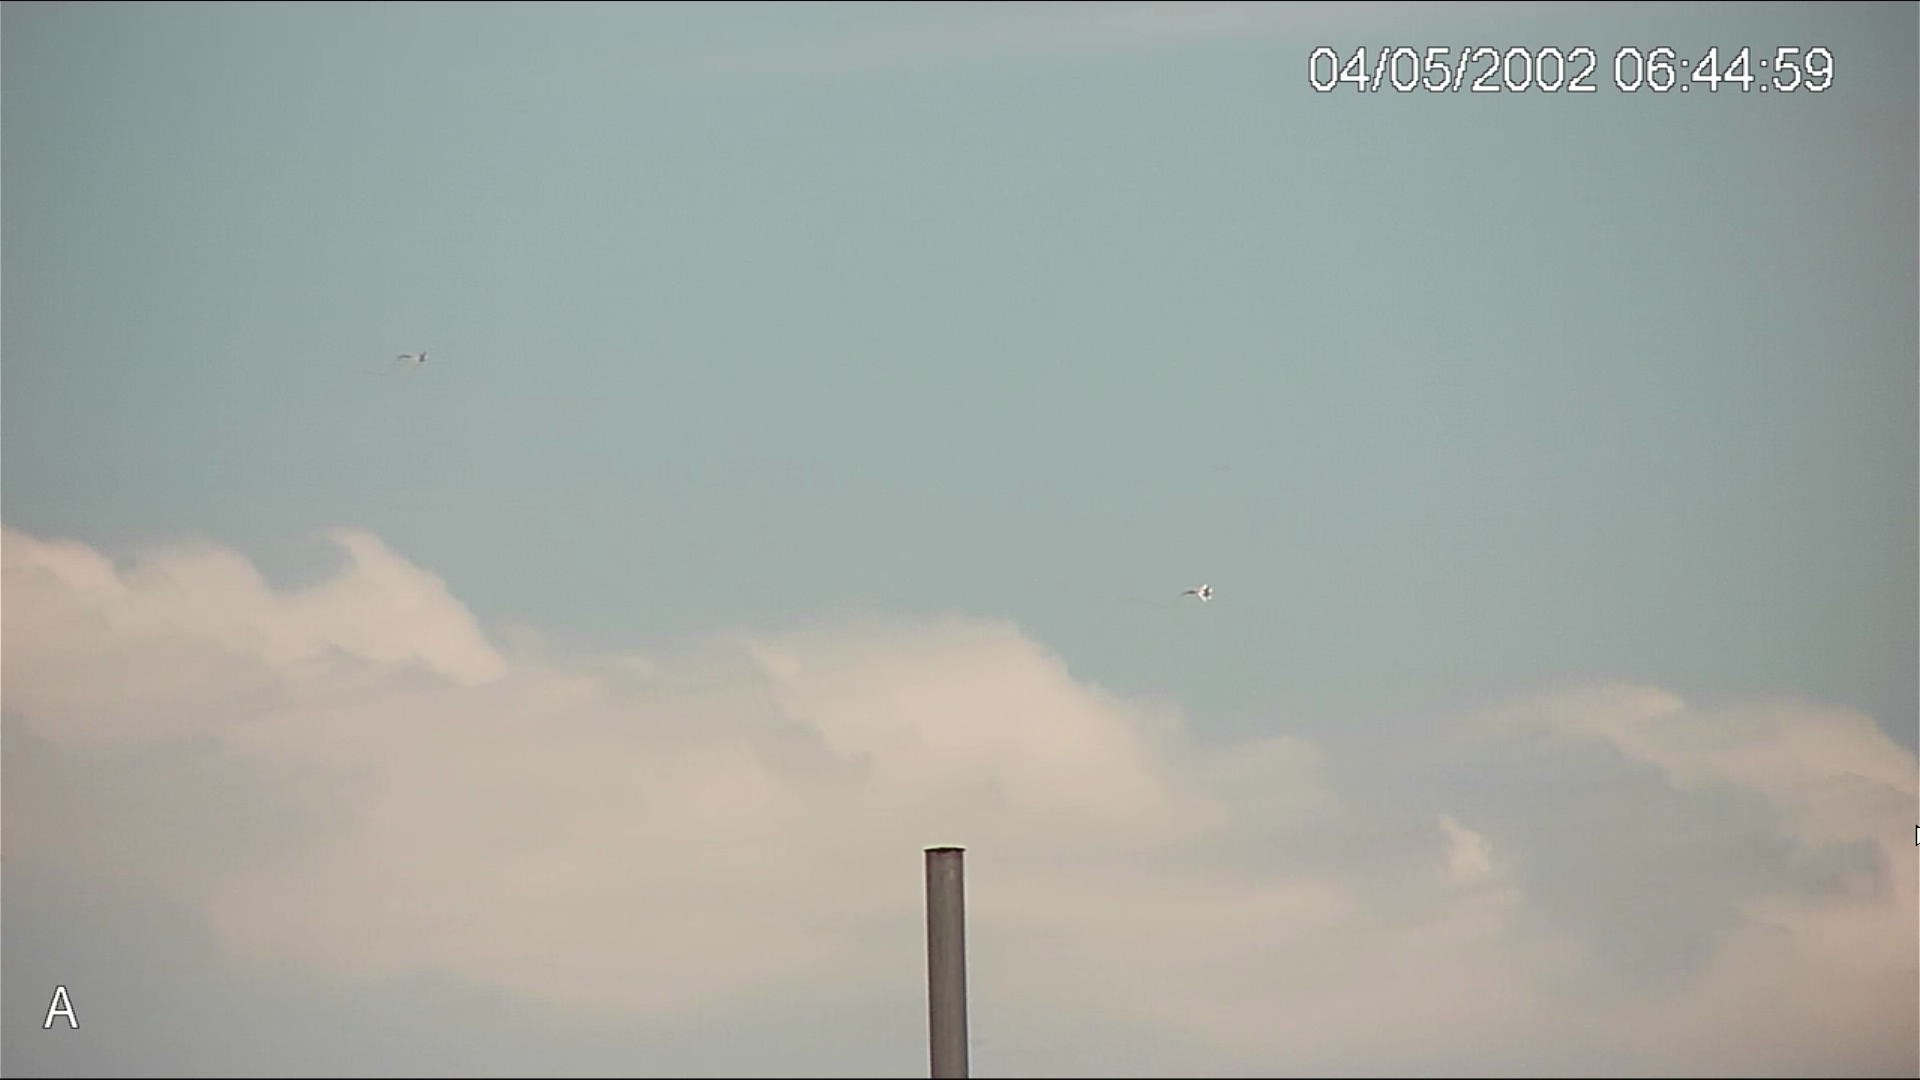SU_30: (1180, 584, 1215, 607), (396, 347, 429, 367)
